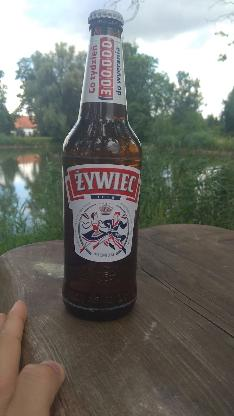Glass Bottle: (62, 10, 142, 322)
